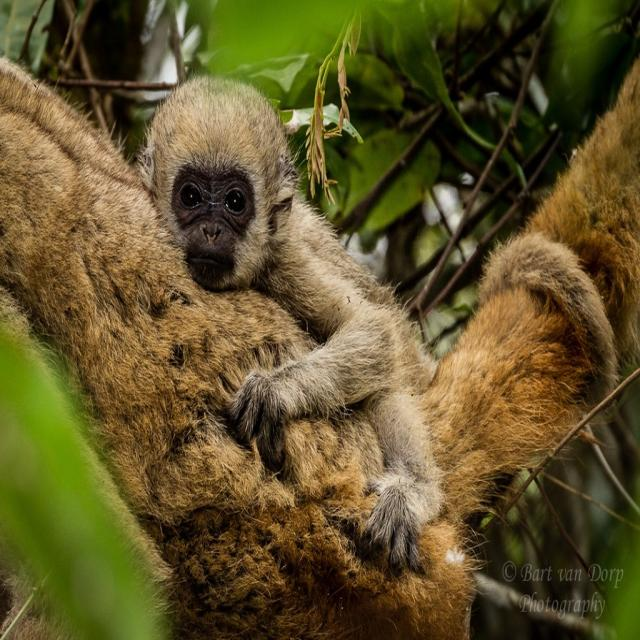Monkey: (141, 73, 620, 569)
